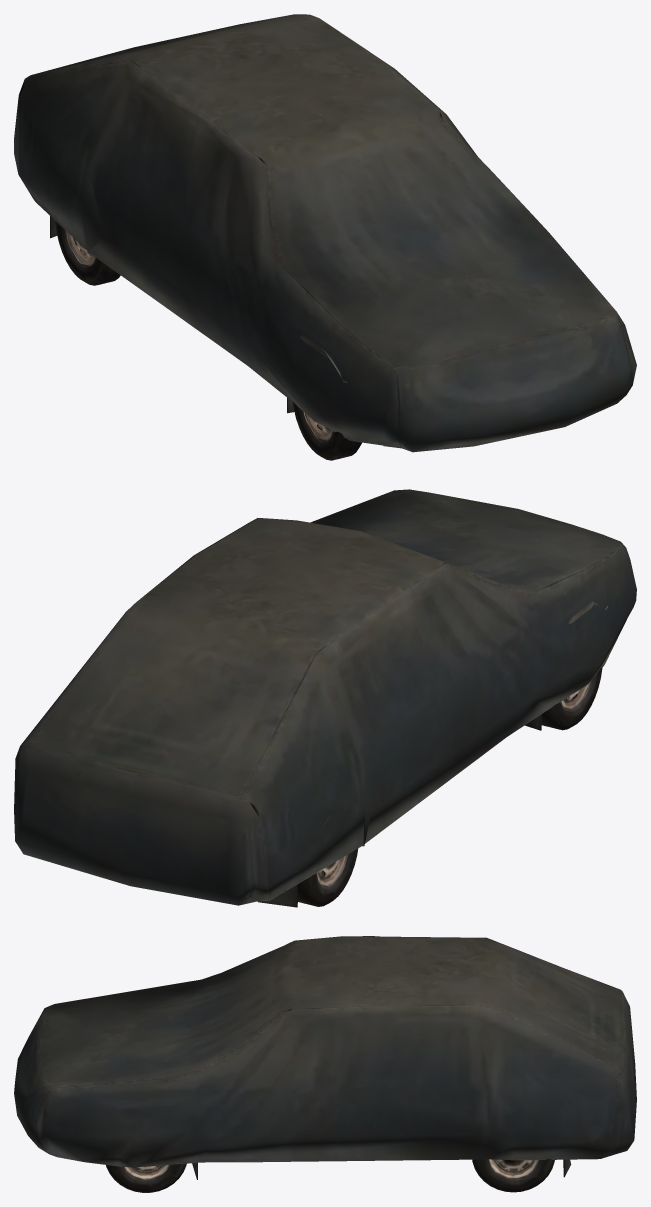
The model's file is coveredCar_lo.glb.
3 views of the same model, one above another, from view 1: azimuth 30°, elevation 25°; view 2: azimuth 150°, elevation 25°; view 3: azimuth 270°, elevation 25° (orthographic). The views are drawn at different scales.
Visible parts, largest first — view 1: covered_car, covered_car_wheel_03, covered_car_wheel_02; view 2: covered_car, covered_car_wheel_03, covered_car_wheel_02; view 3: covered_car, covered_car_wheel_04, covered_car_wheel_01.
Part boxes in pixels (x1,y1,x2,y2): covered_car: (14,14,636,452); covered_car_wheel_03: (55,221,120,285); covered_car_wheel_02: (292,402,361,460); covered_car: (14,489,636,907); covered_car_wheel_03: (298,848,358,906); covered_car_wheel_02: (541,666,602,730); covered_car: (14,936,636,1179); covered_car_wheel_04: (472,1159,554,1192); covered_car_wheel_01: (106,1163,186,1192).
Size of the model in its own units: 1.79 by 1.41 by 4.38.
1 material, 1 textured.
